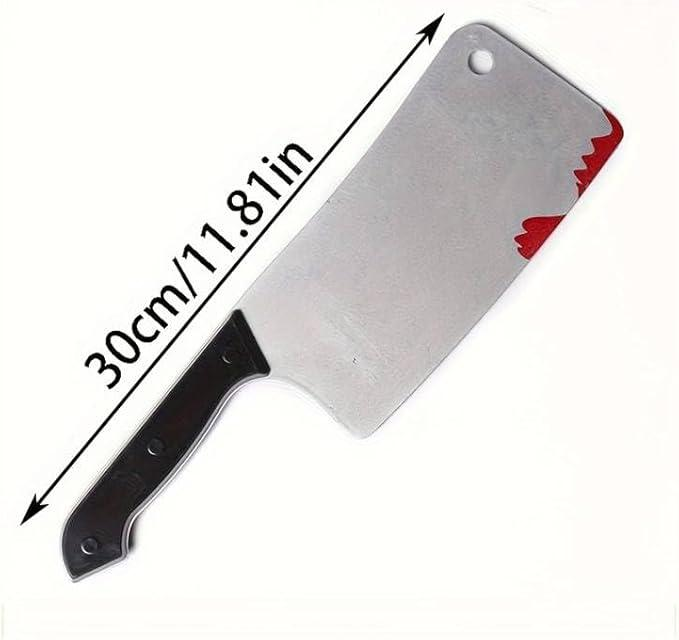Knife: (55, 16, 628, 594)
